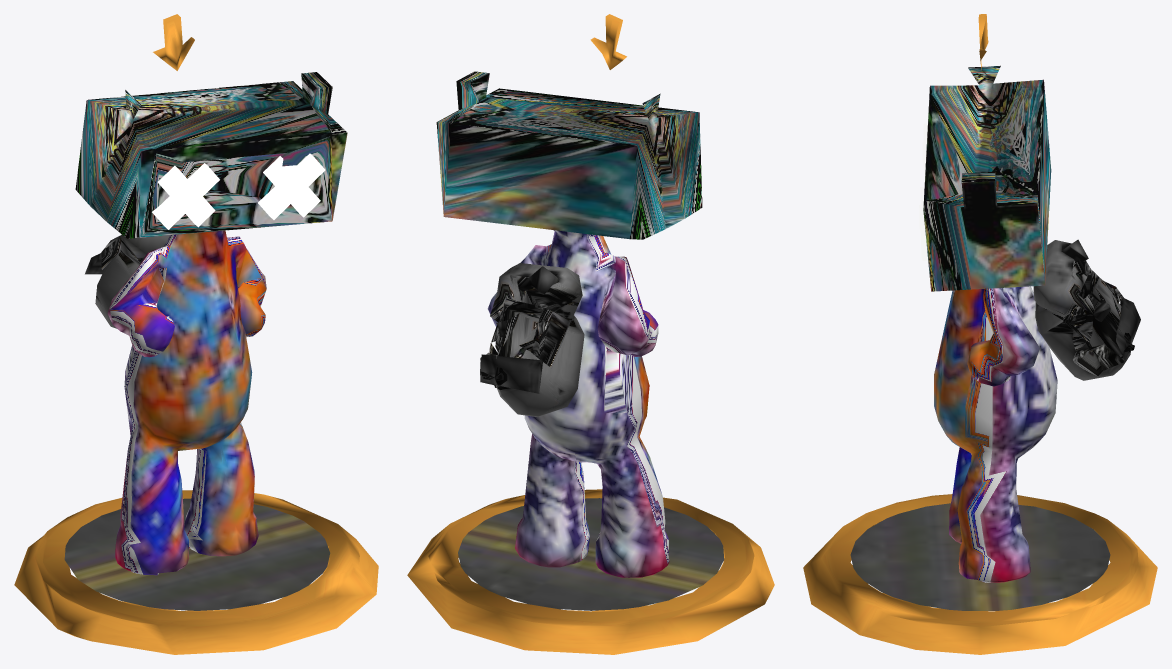
3 views of the same model, side by side, from view 1: azimuth 30°, elevation 25°; view 2: azimuth 150°, elevation 25°; view 3: azimuth 270°, elevation 25° (orthographic). The views are drawn at different scales.
Size of the model in its own units: 1.43 by 2.47 by 1.43.
Materials: 6 (5 with a texture image).
